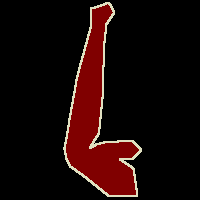tie: (64, 2, 141, 196)
